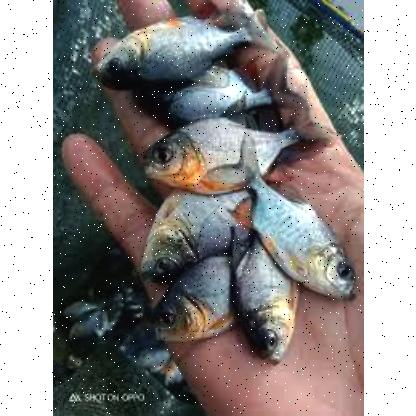ikan-pacu: (243, 180, 357, 294), (92, 20, 258, 92), (148, 117, 290, 195), (145, 256, 227, 346), (232, 242, 296, 356)
